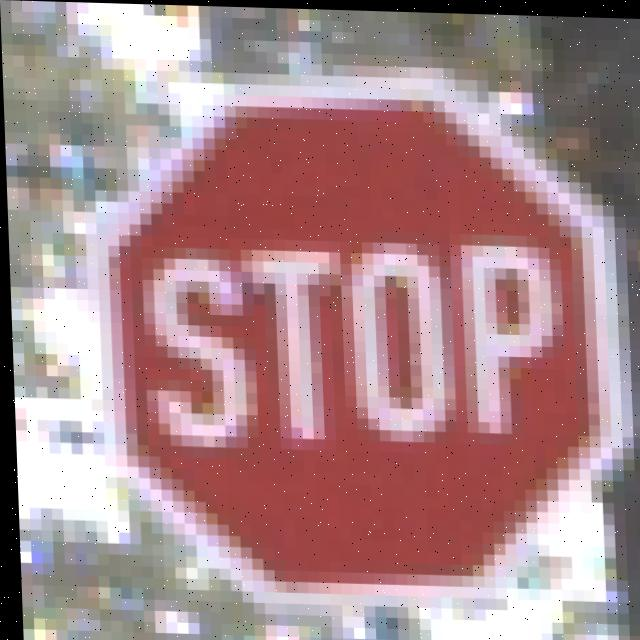stop: (108, 108, 632, 592)
